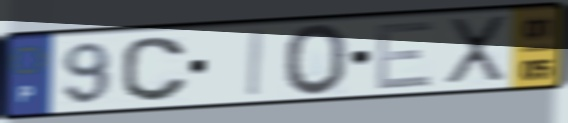9: (58, 39, 119, 106)
C: (119, 34, 192, 104)
E: (372, 17, 436, 92)
I: (244, 26, 268, 100)
O: (281, 21, 350, 99)
X: (442, 13, 509, 86)
